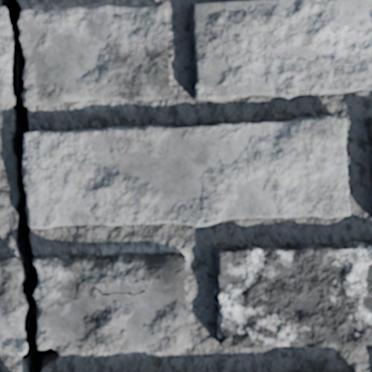brick: (23, 116, 349, 227), (191, 0, 371, 100), (214, 241, 371, 348), (369, 121, 371, 145)
broken_brick: (34, 251, 190, 356), (19, 0, 170, 107), (0, 255, 26, 357), (0, 6, 12, 105)
crack: (0, 0, 60, 371)
